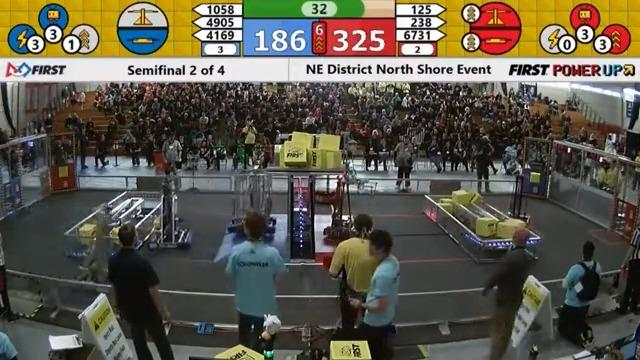robot: (80, 200, 129, 300), (323, 167, 372, 243), (230, 168, 280, 237), (161, 160, 193, 252), (503, 172, 542, 233), (312, 150, 346, 203)
